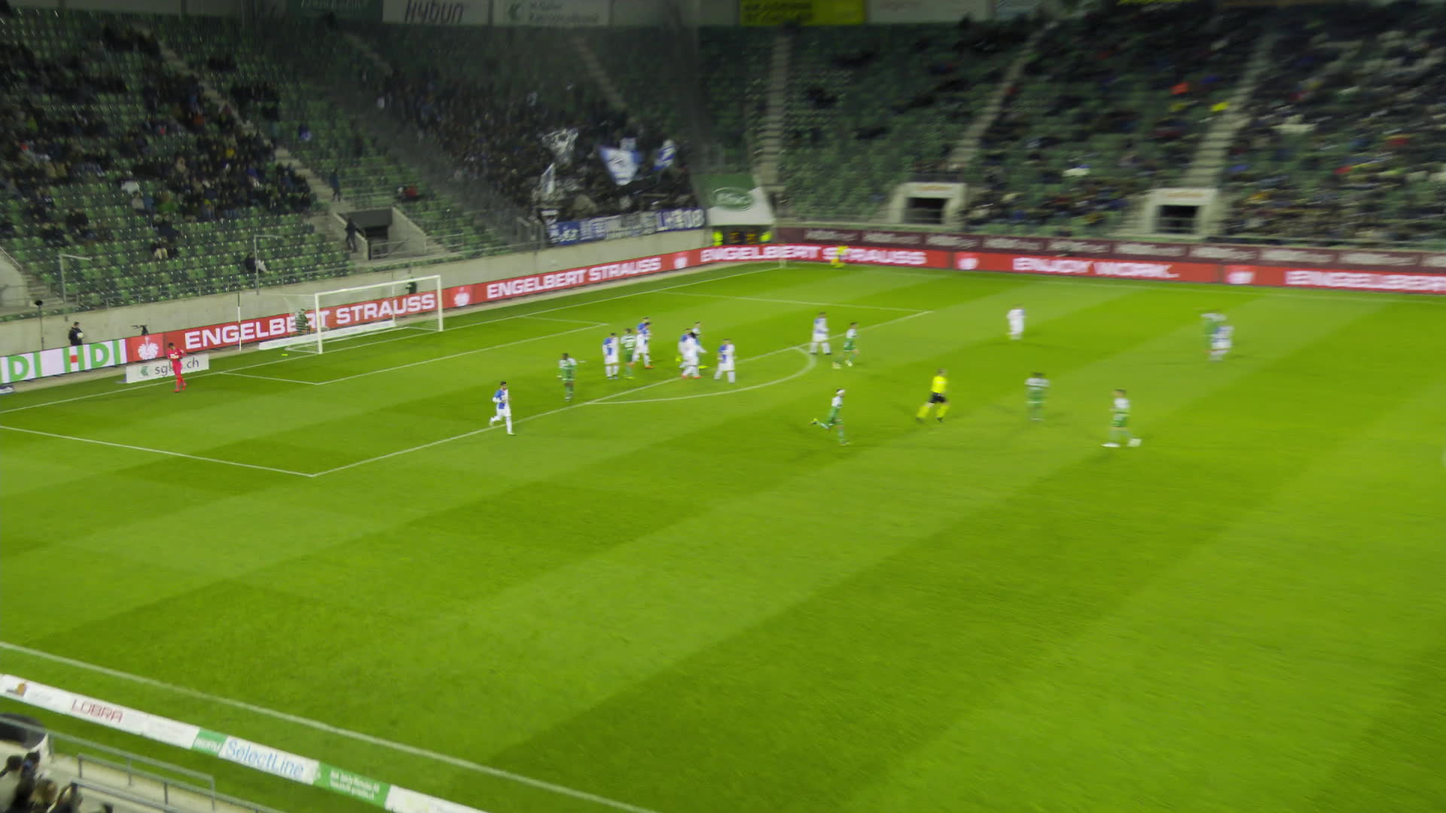player: (1126, 389, 1161, 451), (842, 321, 876, 369), (828, 389, 856, 446), (1221, 310, 1249, 365), (1048, 372, 1073, 428), (1213, 308, 1240, 352), (694, 330, 718, 379), (728, 336, 752, 384), (497, 384, 519, 436), (611, 332, 633, 380), (566, 352, 587, 402), (1024, 300, 1048, 343), (169, 343, 190, 391), (825, 309, 845, 356), (630, 327, 648, 379), (694, 324, 713, 368), (644, 323, 660, 370), (644, 316, 660, 362), (688, 324, 703, 373)
referee: (929, 370, 967, 425), (839, 246, 853, 269)
